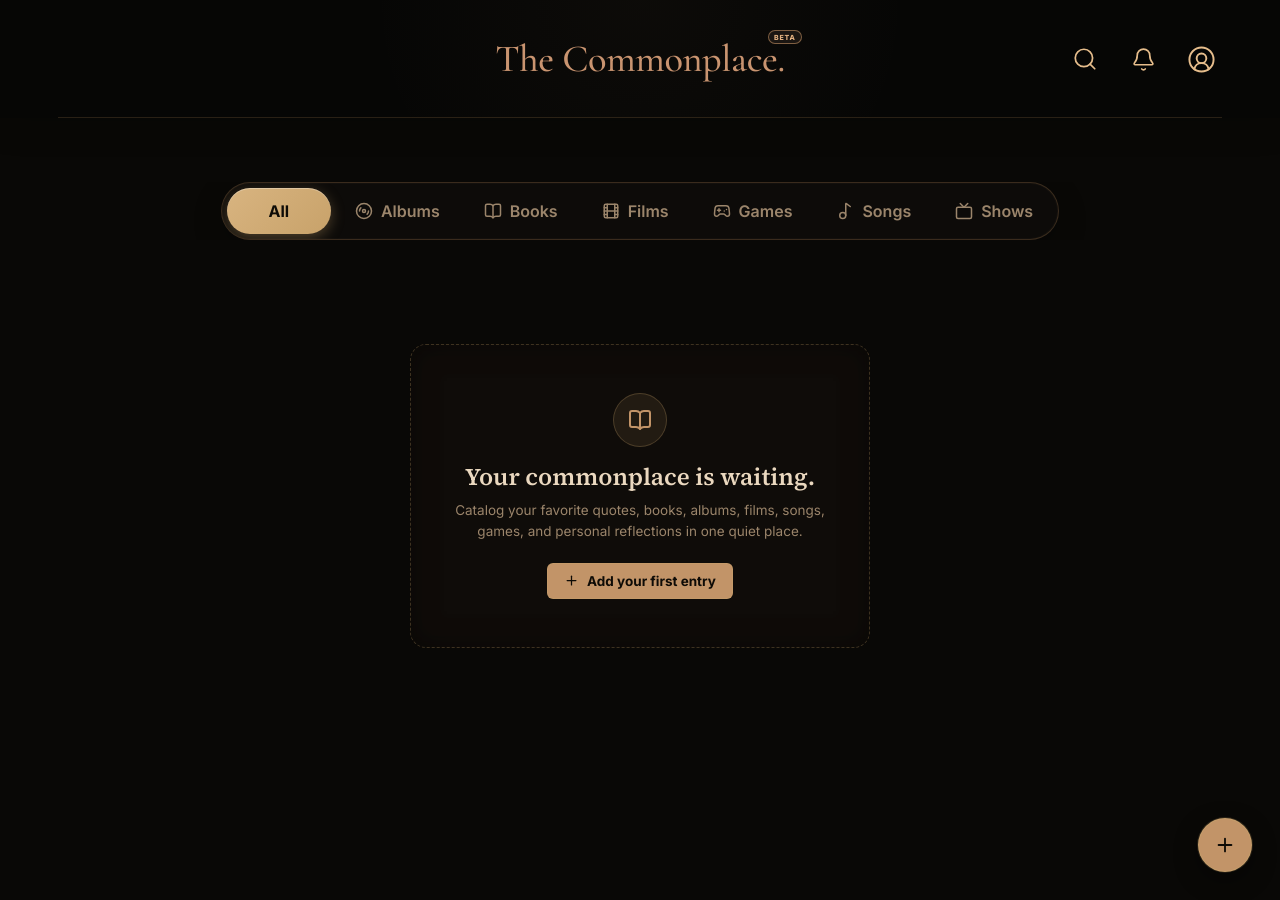
application shell › keeps an owned username even when old profile fields resemble the legacy demo
Check: the text "The Commonplace." is shown, box top-left (495, 41), bottom-right (785, 77)
Click the button named "User Profile & Settings" at (1201, 59), box top-left (1180, 38), bottom-right (1222, 80)
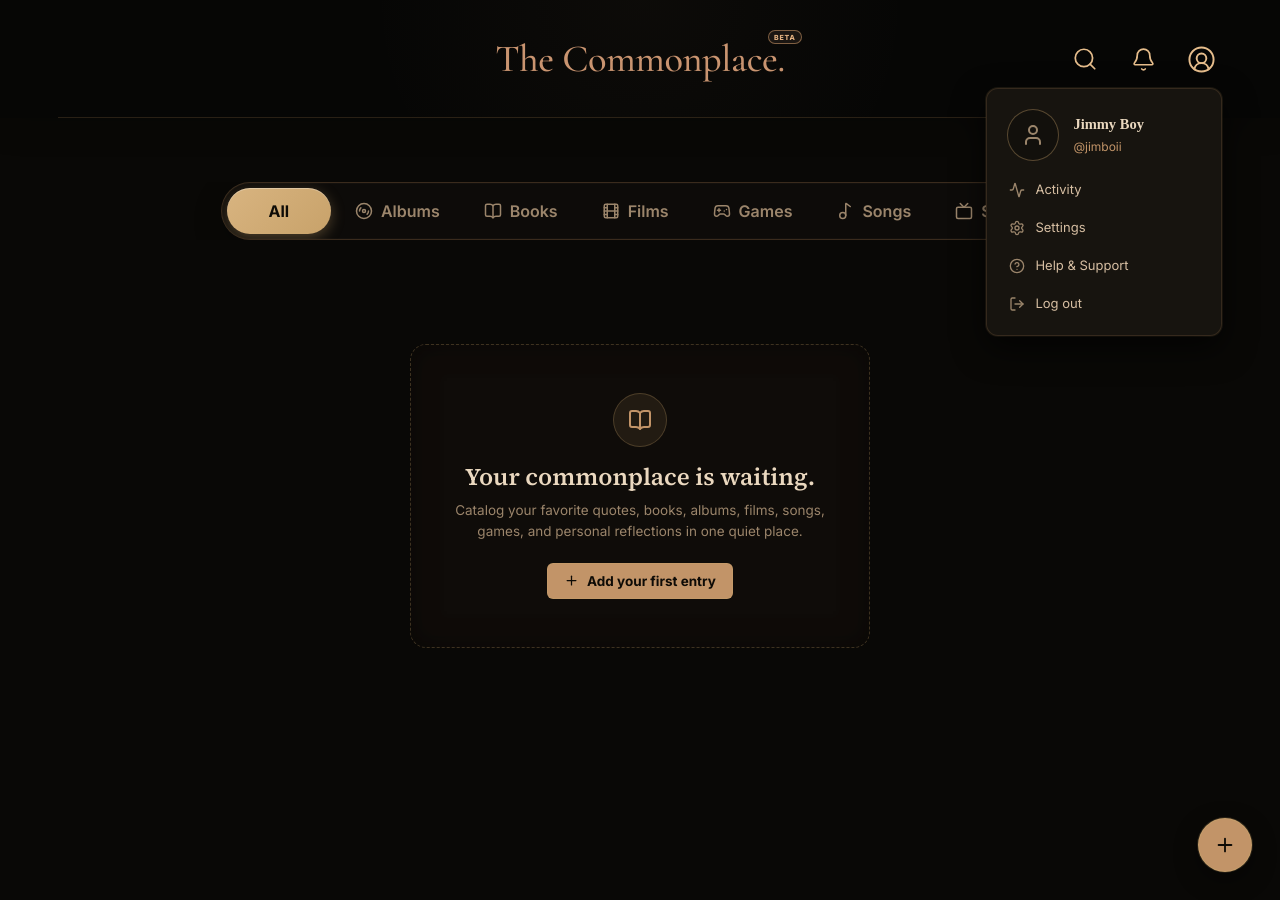
Check: the button with aria-label "View @jimboii profile" is shown, box top-left (999, 101), bottom-right (1209, 171)
